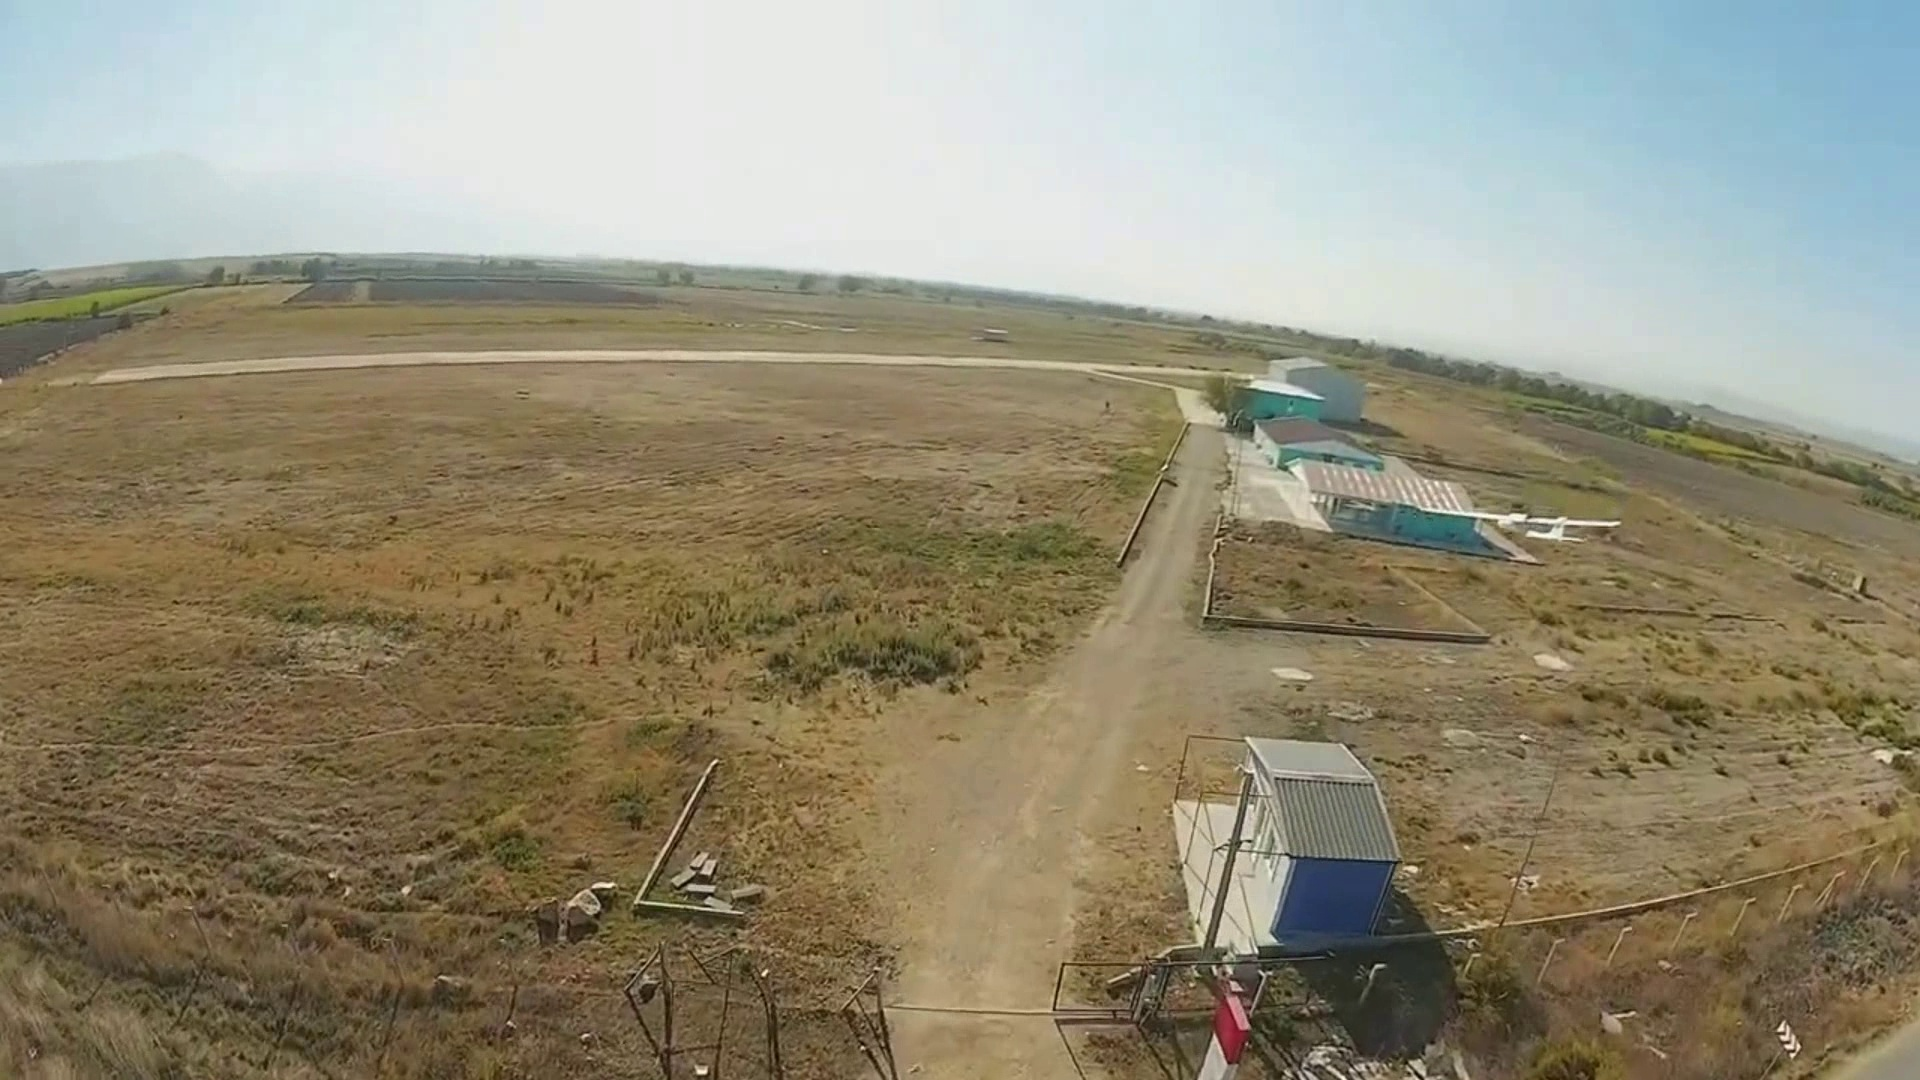airplane: (1224, 365, 1622, 559)
